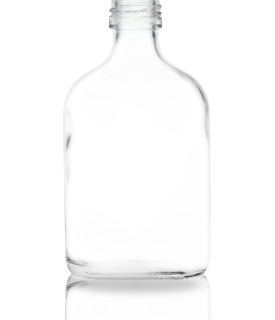glass_bottle: (63, 1, 225, 284)
